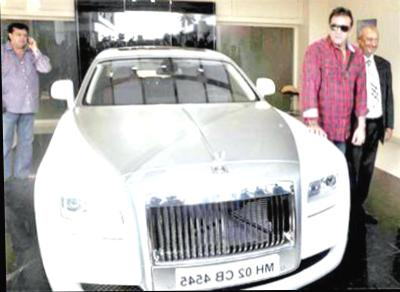License_Plate: (175, 257, 278, 288)
